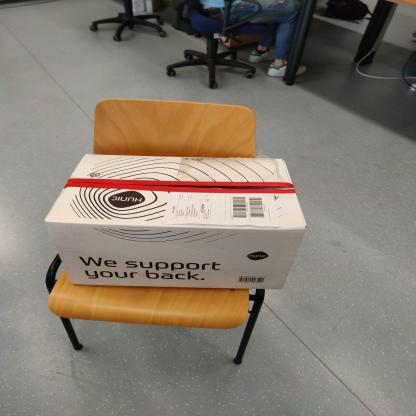-: (32, 121, 339, 303)
